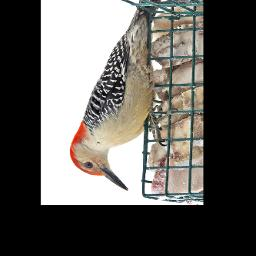Woodpecker: (70, 0, 168, 194)
